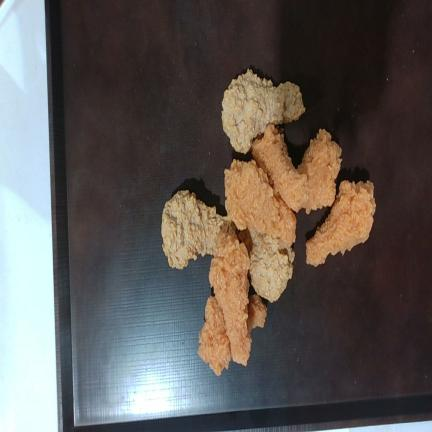chicken: (221, 69, 305, 153), (224, 160, 296, 246), (306, 181, 376, 266), (161, 190, 234, 269), (209, 233, 251, 365), (252, 125, 308, 212), (240, 230, 294, 302), (297, 129, 341, 214), (198, 296, 231, 375)
